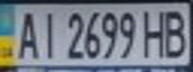2: (63, 7, 84, 60)
6: (81, 8, 103, 60)
9: (115, 7, 142, 60), (100, 8, 121, 60)
A: (12, 7, 42, 61)
B: (160, 6, 190, 58)
H: (139, 6, 172, 58)
I: (36, 7, 60, 60)
